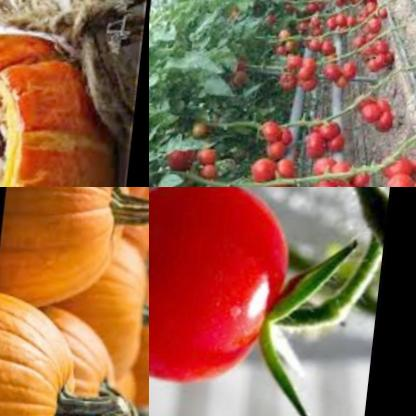pumpkin: (0, 19, 118, 187), (0, 187, 143, 314), (49, 237, 149, 378), (0, 286, 98, 416), (17, 306, 129, 416), (110, 187, 149, 416)
tomato: (149, 187, 315, 397), (155, 122, 233, 187), (276, 48, 340, 96), (241, 143, 309, 187), (312, 148, 386, 187), (272, 21, 330, 60), (352, 24, 395, 76), (355, 88, 402, 131), (315, 5, 354, 53), (255, 122, 307, 157), (310, 111, 350, 156), (379, 145, 416, 187), (323, 54, 359, 89), (349, 0, 389, 30), (305, 0, 368, 18)
